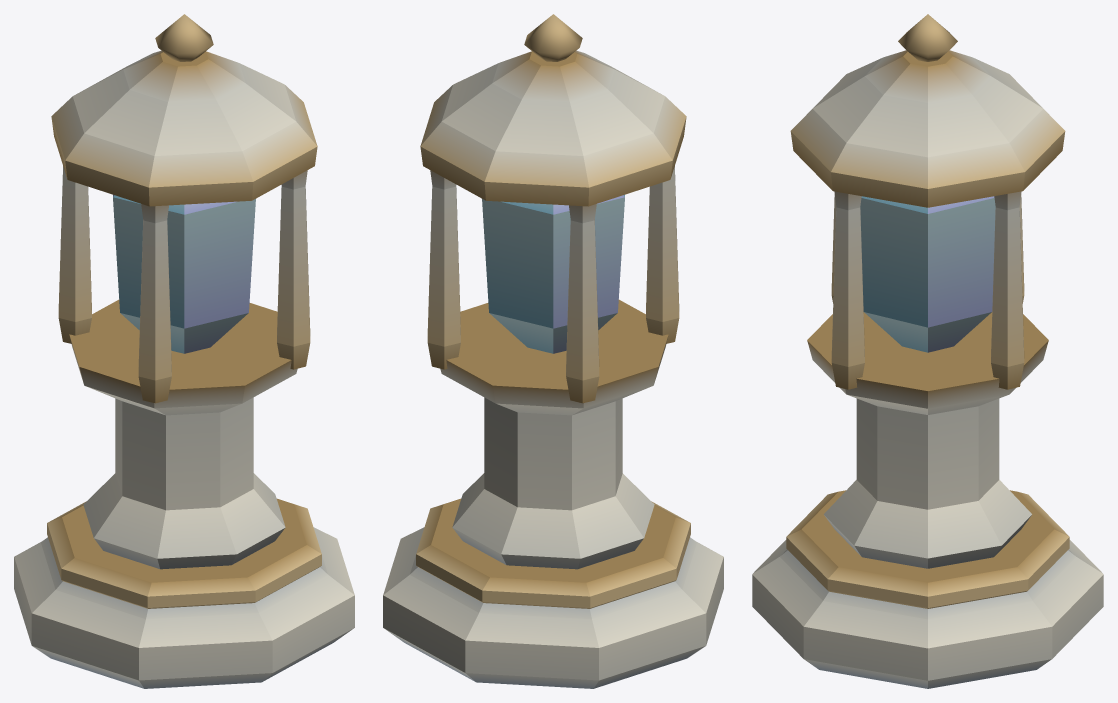
Rendered from Sky_Astral_Crystal_Lantern_LOD1.glb.
The picture shows the model from 3 angles, left to right: view 1: azimuth 30°, elevation 25°; view 2: azimuth 150°, elevation 25°; view 3: azimuth 270°, elevation 25°; orthographic projection.
Visible parts, largest first — view 1: Sky_Astral_Crystal_Lantern_LOD1; view 2: Sky_Astral_Crystal_Lantern_LOD1; view 3: Sky_Astral_Crystal_Lantern_LOD1.
Part boxes in pixels (x1,y1,x2,y2): Sky_Astral_Crystal_Lantern_LOD1: [14, 14, 354, 688]; Sky_Astral_Crystal_Lantern_LOD1: [383, 14, 723, 688]; Sky_Astral_Crystal_Lantern_LOD1: [752, 14, 1103, 688].
Bounding box in the file's own units: 0.64 × 1.23 × 0.64.
